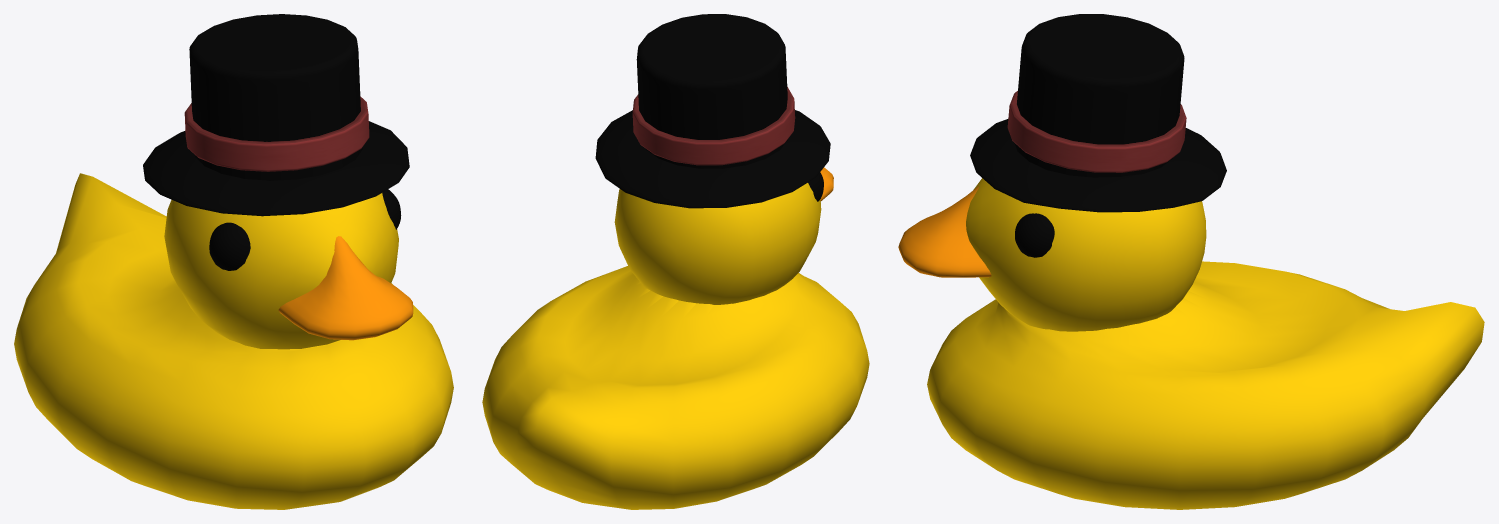
3 renders of one model, left to right at view 1: azimuth 30°, elevation 25°; view 2: azimuth 150°, elevation 25°; view 3: azimuth 270°, elevation 25°, orthographic. The views are drawn at different scales.
Visible parts, largest first — view 1: patitodegoma2; view 2: patitodegoma2; view 3: patitodegoma2.
Part boxes in pixels (<box>): patitodegoma2: <box>14,14,453,509</box>; patitodegoma2: <box>482,14,869,509</box>; patitodegoma2: <box>898,14,1484,509</box>.
Size of the model in its own units: 1.33 by 1.65 by 2.
1 material, 1 textured.
